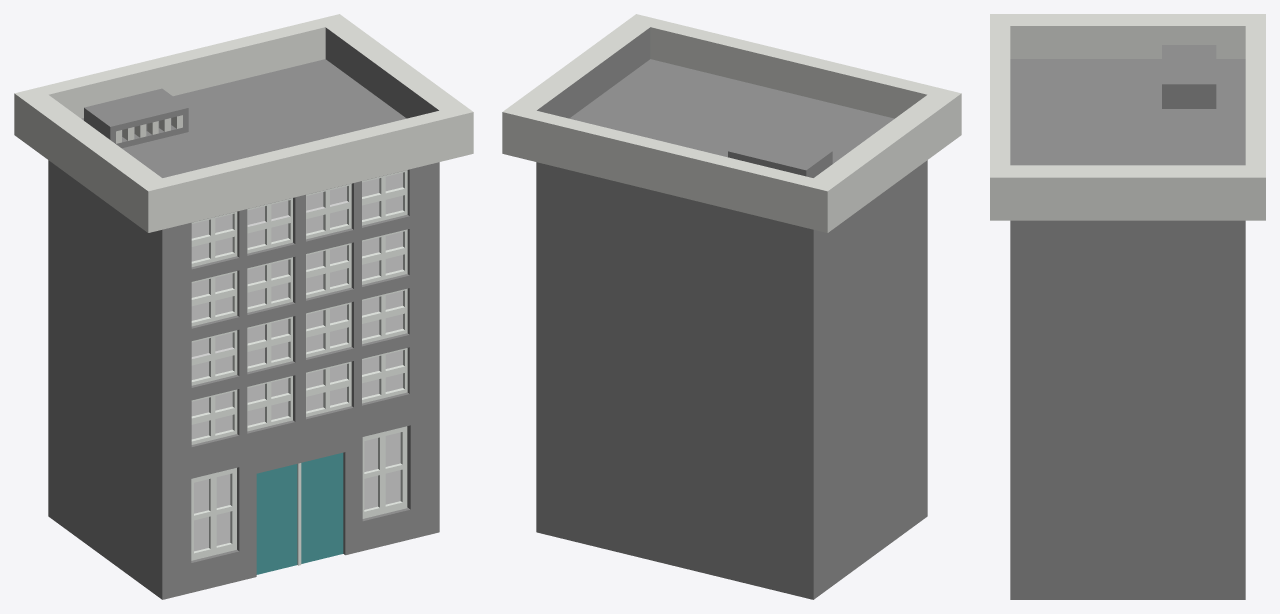
The model's file is building.fbx.
The picture shows the model from 3 angles, left to right: view 1: azimuth 30°, elevation 25°; view 2: azimuth 150°, elevation 25°; view 3: azimuth 270°, elevation 25°; orthographic projection. The views are drawn at different scales.
Parts seen in each view (by area): view 1: Cube, Cube.001, window, small window.002, small window, small window.003, small window.004, small window.007, small window.001, small window.005, small window.006, Cube.009; view 2: Cube; view 3: Cube.
Boxes of the visible parts, x1=… form: Cube: x1=14, y1=14, x2=473, y2=599; Cube.001: x1=256, y1=452, x2=343, y2=574; window: x1=191, y1=426, x2=407, y2=560; small window.002: x1=191, y1=288, x2=407, y2=385; small window: x1=191, y1=348, x2=407, y2=444; small window.003: x1=191, y1=229, x2=407, y2=326; small window.004: x1=191, y1=170, x2=407, y2=266; small window.007: x1=247, y1=183, x2=351, y2=253; small window.001: x1=247, y1=361, x2=351, y2=431; small window.005: x1=247, y1=302, x2=351, y2=371; small window.006: x1=247, y1=243, x2=351, y2=312; Cube.009: x1=116, y1=115, x2=182, y2=143; Cube: x1=502, y1=14, x2=961, y2=599; Cube: x1=990, y1=14, x2=1265, y2=599.
Bounding box in the file's own units: 653 × 808 × 465.
